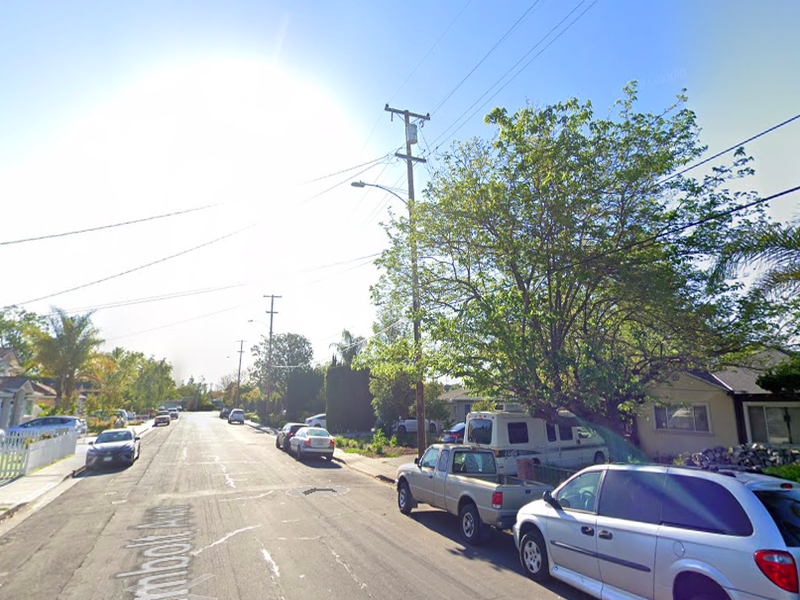utility_pole: (378, 94, 435, 173), (260, 290, 286, 323)
